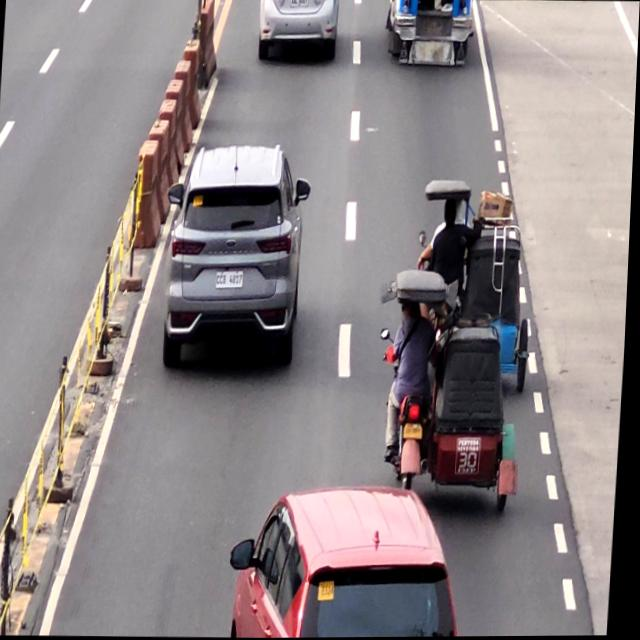Car: (233, 484, 468, 639), (165, 149, 306, 368), (257, 0, 337, 64)
License-Plate: (216, 270, 245, 291), (404, 424, 427, 443)
Tricycle: (381, 273, 529, 501), (419, 176, 530, 273)
Truck: (387, 0, 472, 63)
